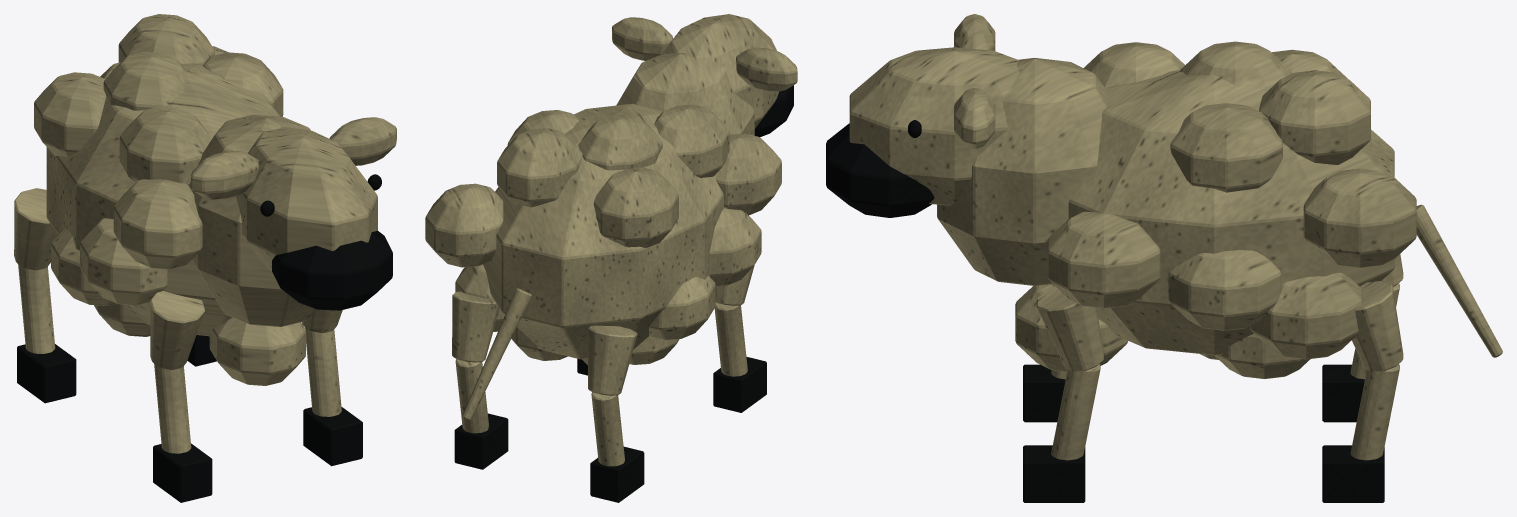
The model's file is PROP-DBC77A1D1E95_lod1.glb.
3 renders of one model, left to right at view 1: azimuth 30°, elevation 25°; view 2: azimuth 150°, elevation 25°; view 3: azimuth 270°, elevation 25°, orthographic. The views are drawn at different scales.
Visible parts, largest first — view 1: wool_tufts.001, animal_head.004, animal_torso.004, animal_neck.004, hoof.004, lower_leg.004, upper_leg.004, muzzle.004, animal_ears.004; view 2: wool_tufts.001, animal_torso.004, hoof.004, upper_leg.004, animal_neck.004, lower_leg.004, animal_head.004, animal_ears.004, tail.004, muzzle.004; view 3: wool_tufts.001, animal_torso.004, animal_neck.004, animal_head.004, hoof.004, upper_leg.004, lower_leg.004, muzzle.004, animal_ears.004, tail.004.
Boxes of the visible parts, bbox=[...] form: wool_tufts.001: bbox=[34, 14, 305, 385]; animal_head.004: bbox=[236, 127, 377, 270]; animal_torso.004: bbox=[46, 62, 282, 336]; animal_neck.004: bbox=[188, 114, 316, 326]; hoof.004: bbox=[17, 335, 362, 502]; lower_leg.004: bbox=[18, 264, 341, 453]; upper_leg.004: bbox=[14, 188, 342, 369]; muzzle.004: bbox=[272, 231, 392, 310]; animal_ears.004: bbox=[191, 117, 396, 199]; wool_tufts.001: bbox=[425, 104, 781, 364]; animal_torso.004: bbox=[483, 103, 724, 359]; hoof.004: bbox=[454, 356, 766, 502]; upper_leg.004: bbox=[452, 265, 754, 395]; animal_neck.004: bbox=[616, 53, 754, 135]; lower_leg.004: bbox=[455, 303, 747, 466]; animal_head.004: bbox=[662, 14, 778, 128]; animal_ears.004: bbox=[612, 17, 797, 91]; tail.004: bbox=[462, 288, 531, 420]; muzzle.004: bbox=[754, 85, 793, 137]; wool_tufts.001: bbox=[1015, 41, 1416, 378]; animal_torso.004: bbox=[1051, 69, 1394, 355]; animal_neck.004: bbox=[937, 57, 1107, 285]; animal_head.004: bbox=[849, 47, 1019, 205]; hoof.004: bbox=[1023, 364, 1384, 502]; upper_leg.004: bbox=[1036, 254, 1403, 372]; lower_leg.004: bbox=[1051, 283, 1399, 460]; muzzle.004: bbox=[826, 123, 934, 217]; animal_ears.004: bbox=[954, 14, 995, 148]; tail.004: bbox=[1416, 204, 1502, 357].
Size of the model in its own units: 0.8008 by 1.07 by 1.63.
2 materials, 2 textured.
